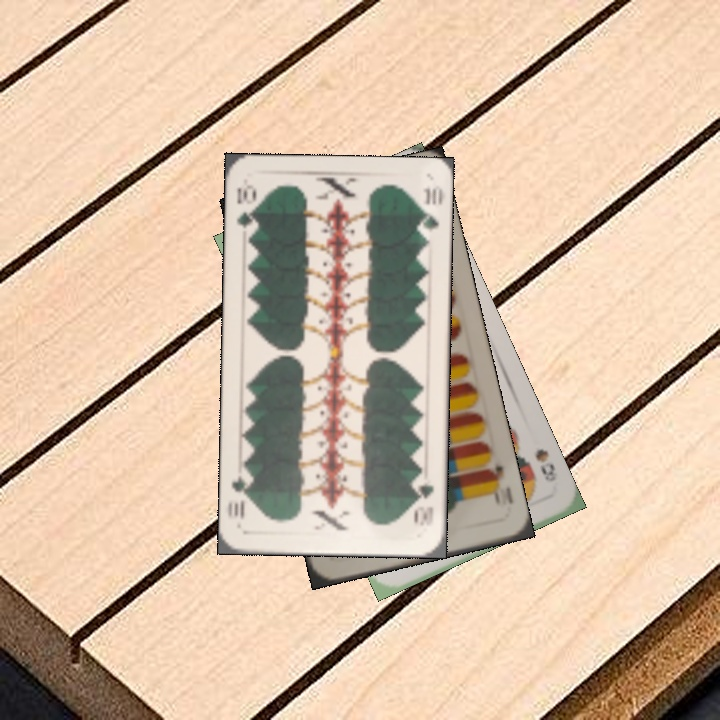E10: (482, 461, 507, 508)
G10: (232, 181, 259, 238), (411, 479, 436, 528)
S8: (531, 444, 560, 485)
